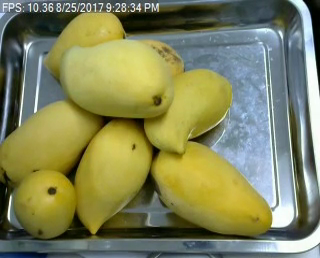Mango: (150, 139, 272, 237), (0, 100, 110, 187), (59, 39, 174, 119), (75, 117, 153, 232), (141, 66, 233, 156), (44, 10, 128, 84), (13, 170, 75, 238)
